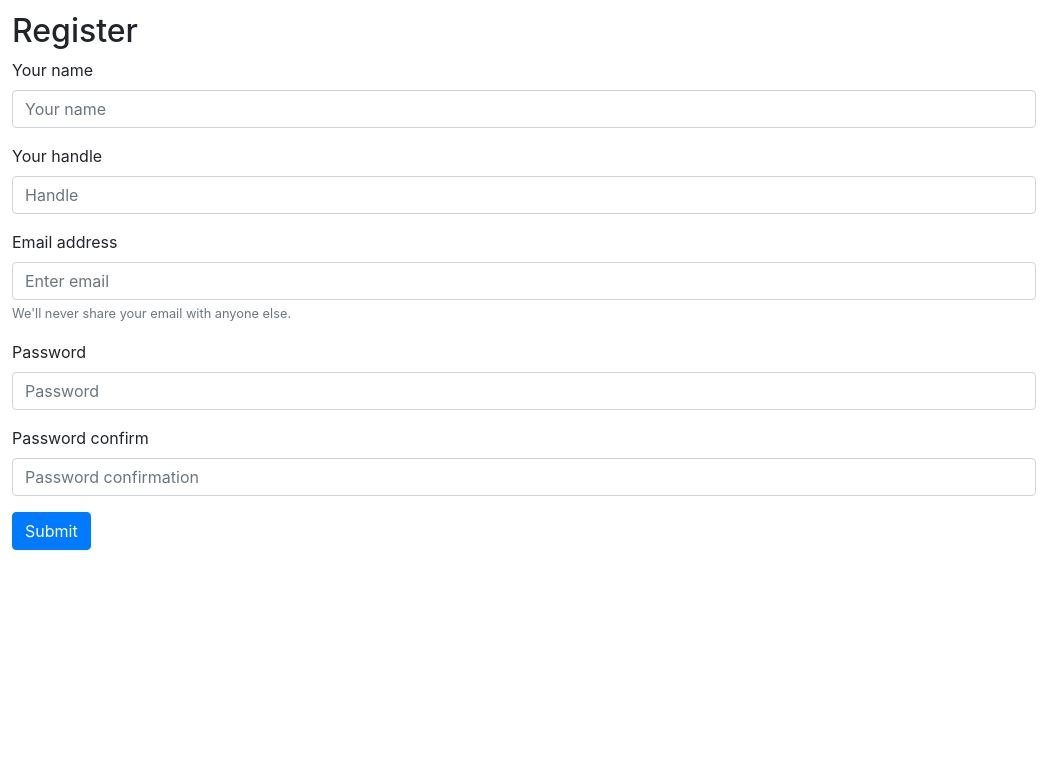
Test: Register component › should display error of › handle taken error if handle is taken
Type "tester" into the field with placeholder "Your name".
click(524, 109); type("tester")  # box [12, 90, 1036, 128]
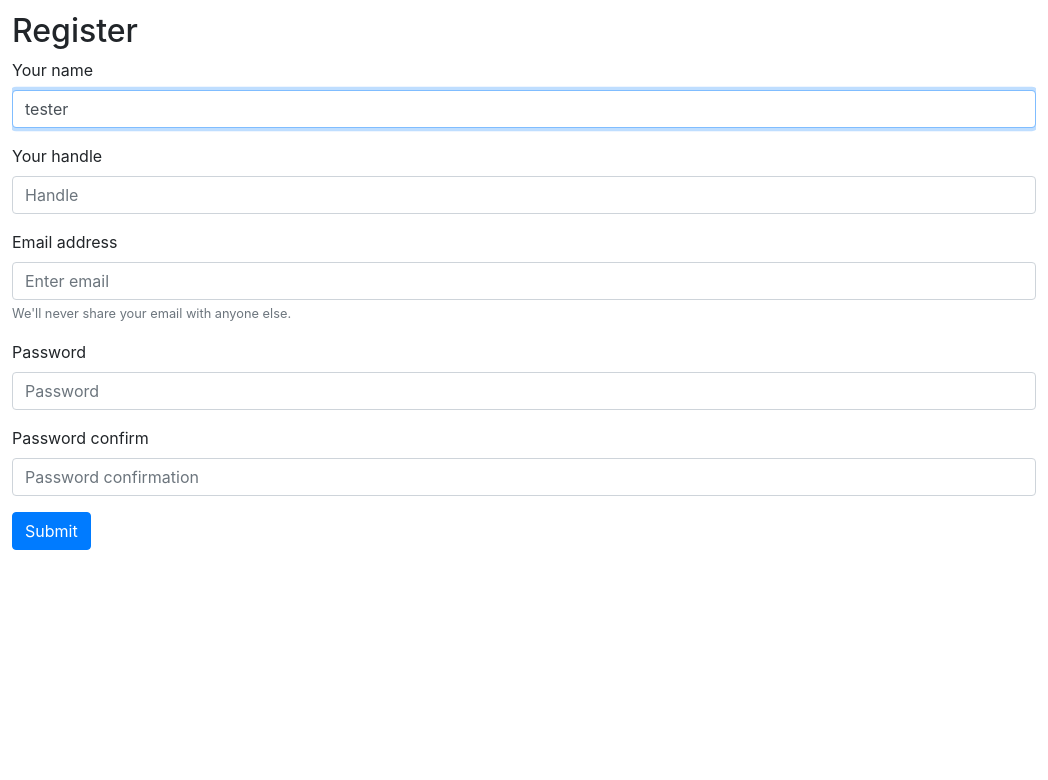
Type "takenHandle" into the field with placeholder "handle".
click(524, 195); type("takenHandle")  # box [12, 176, 1036, 214]
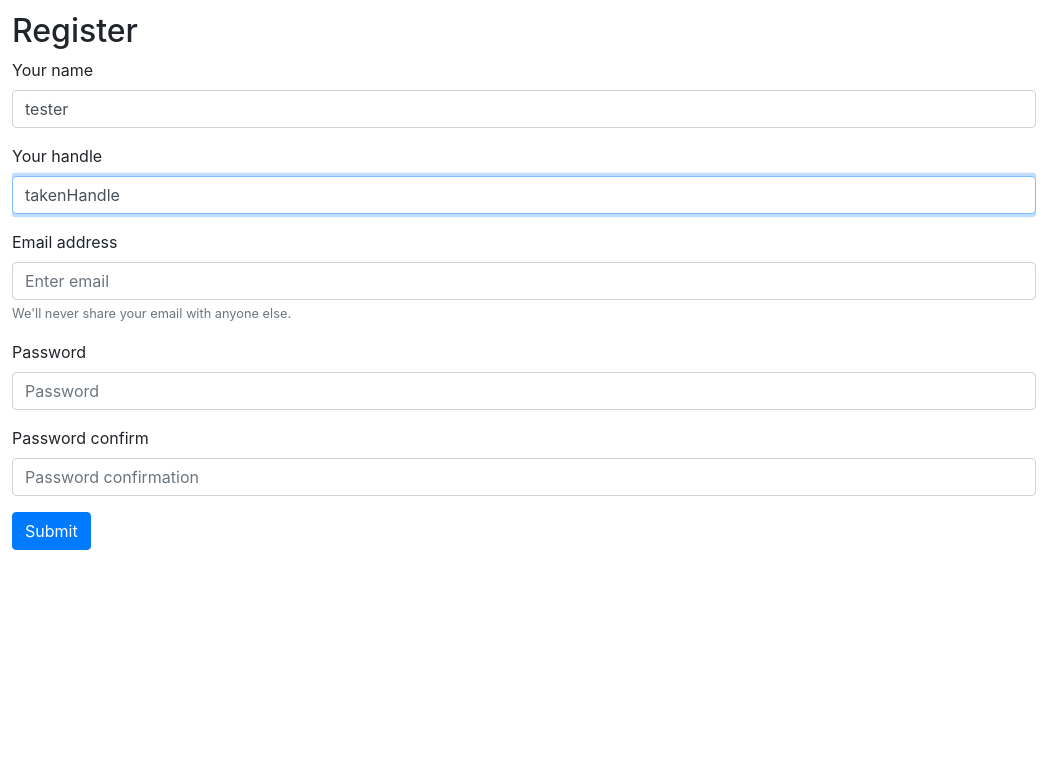
Type "email@example.com" into the field with placeholder "Enter email".
click(524, 281); type("email@example.com")  # box [12, 262, 1036, 300]
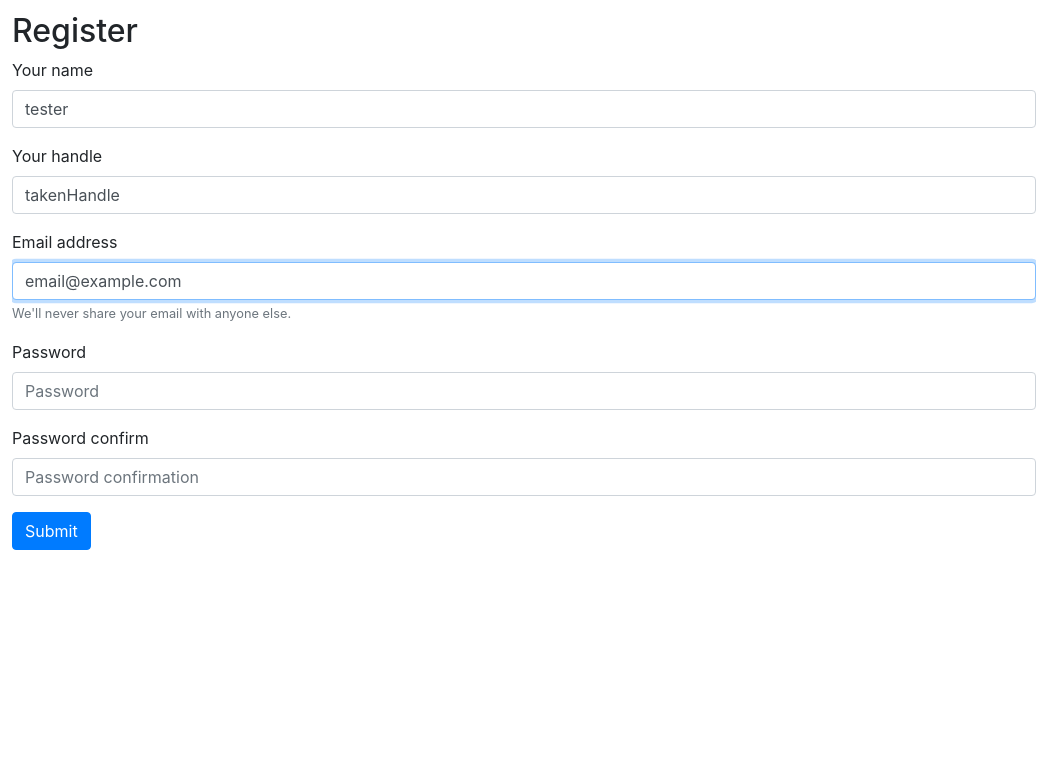
Type "testPassword" into the password field with placeholder "Password".
click(524, 391); type("testPassword")  # box [12, 372, 1036, 410]
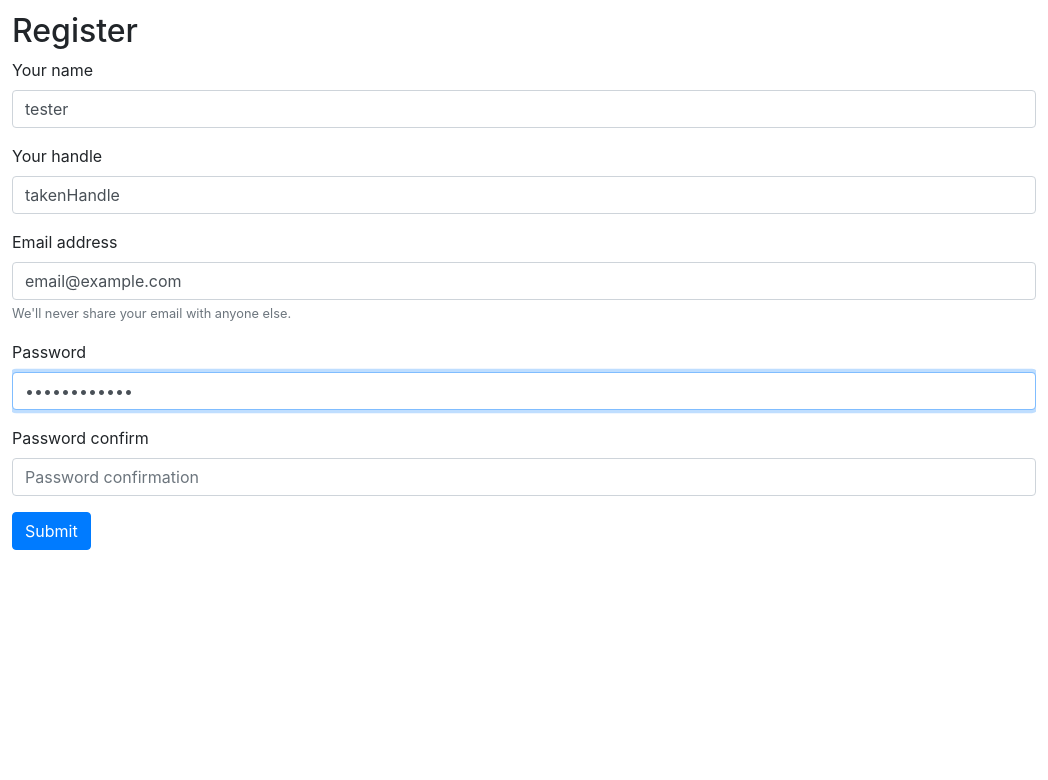
Type "testPassword" into the password field with placeholder "Password confirmation".
click(524, 477); type("testPassword")  # box [12, 458, 1036, 496]
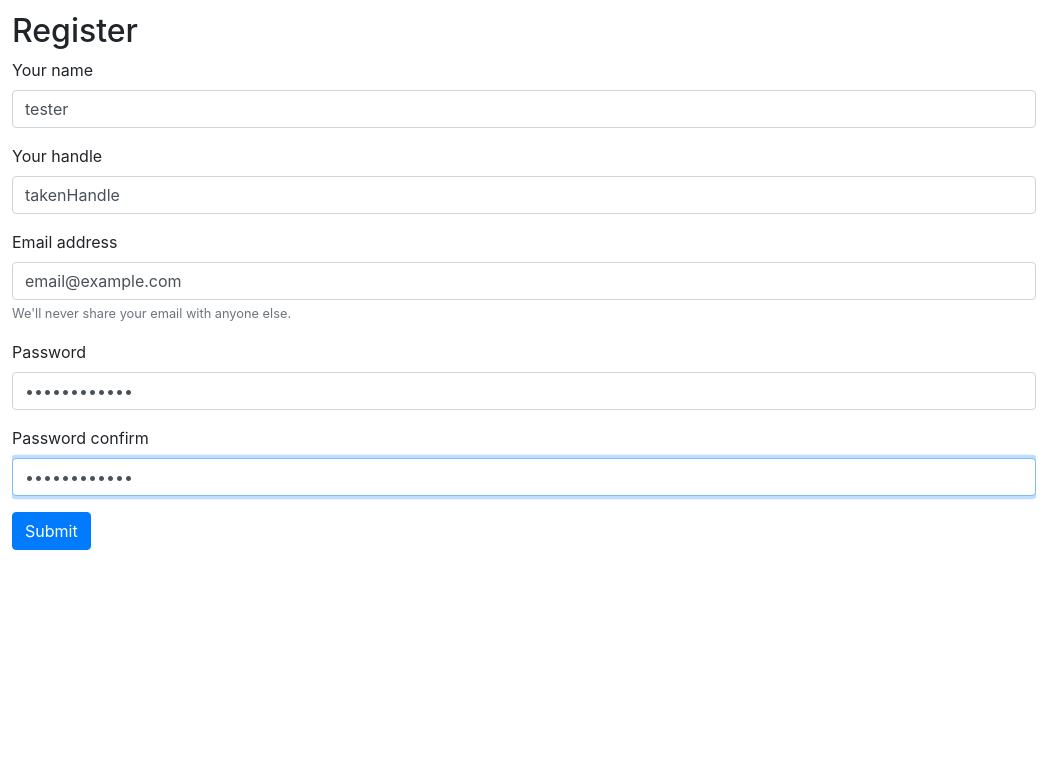
Click the button "Submit".
click(51, 531)  # box [12, 512, 91, 550]
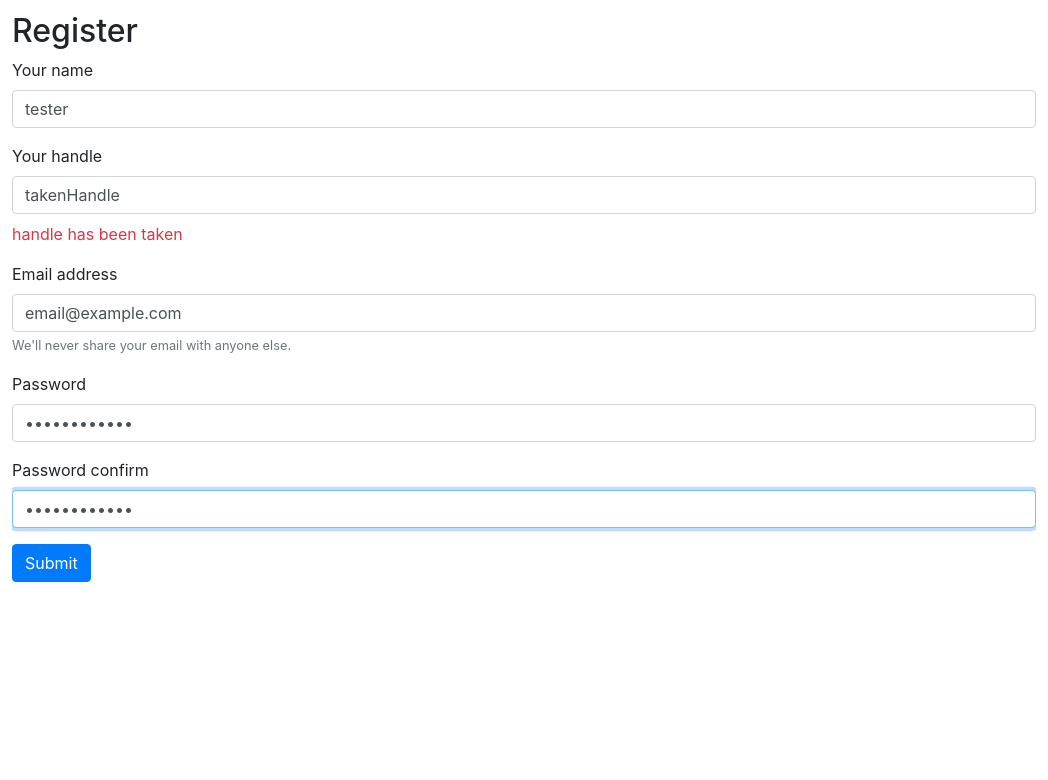
Expected: the text "handle has been taken" is shown, [12, 224, 183, 244]
